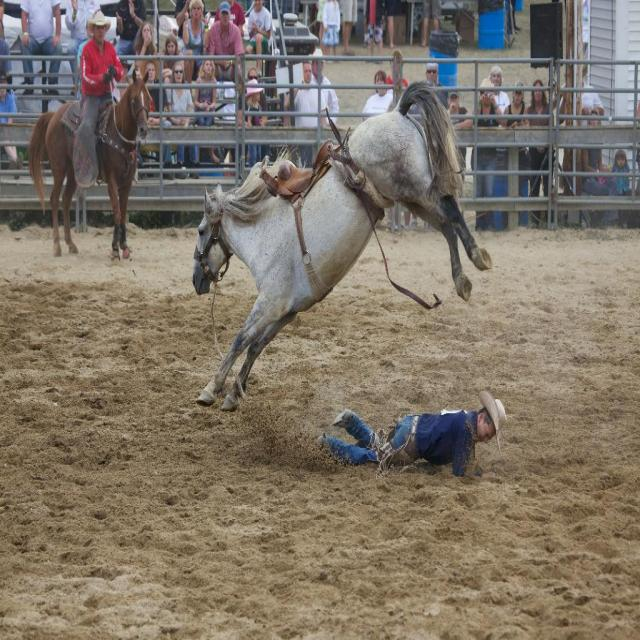Horse: (192, 80, 493, 412), (24, 69, 153, 261)
